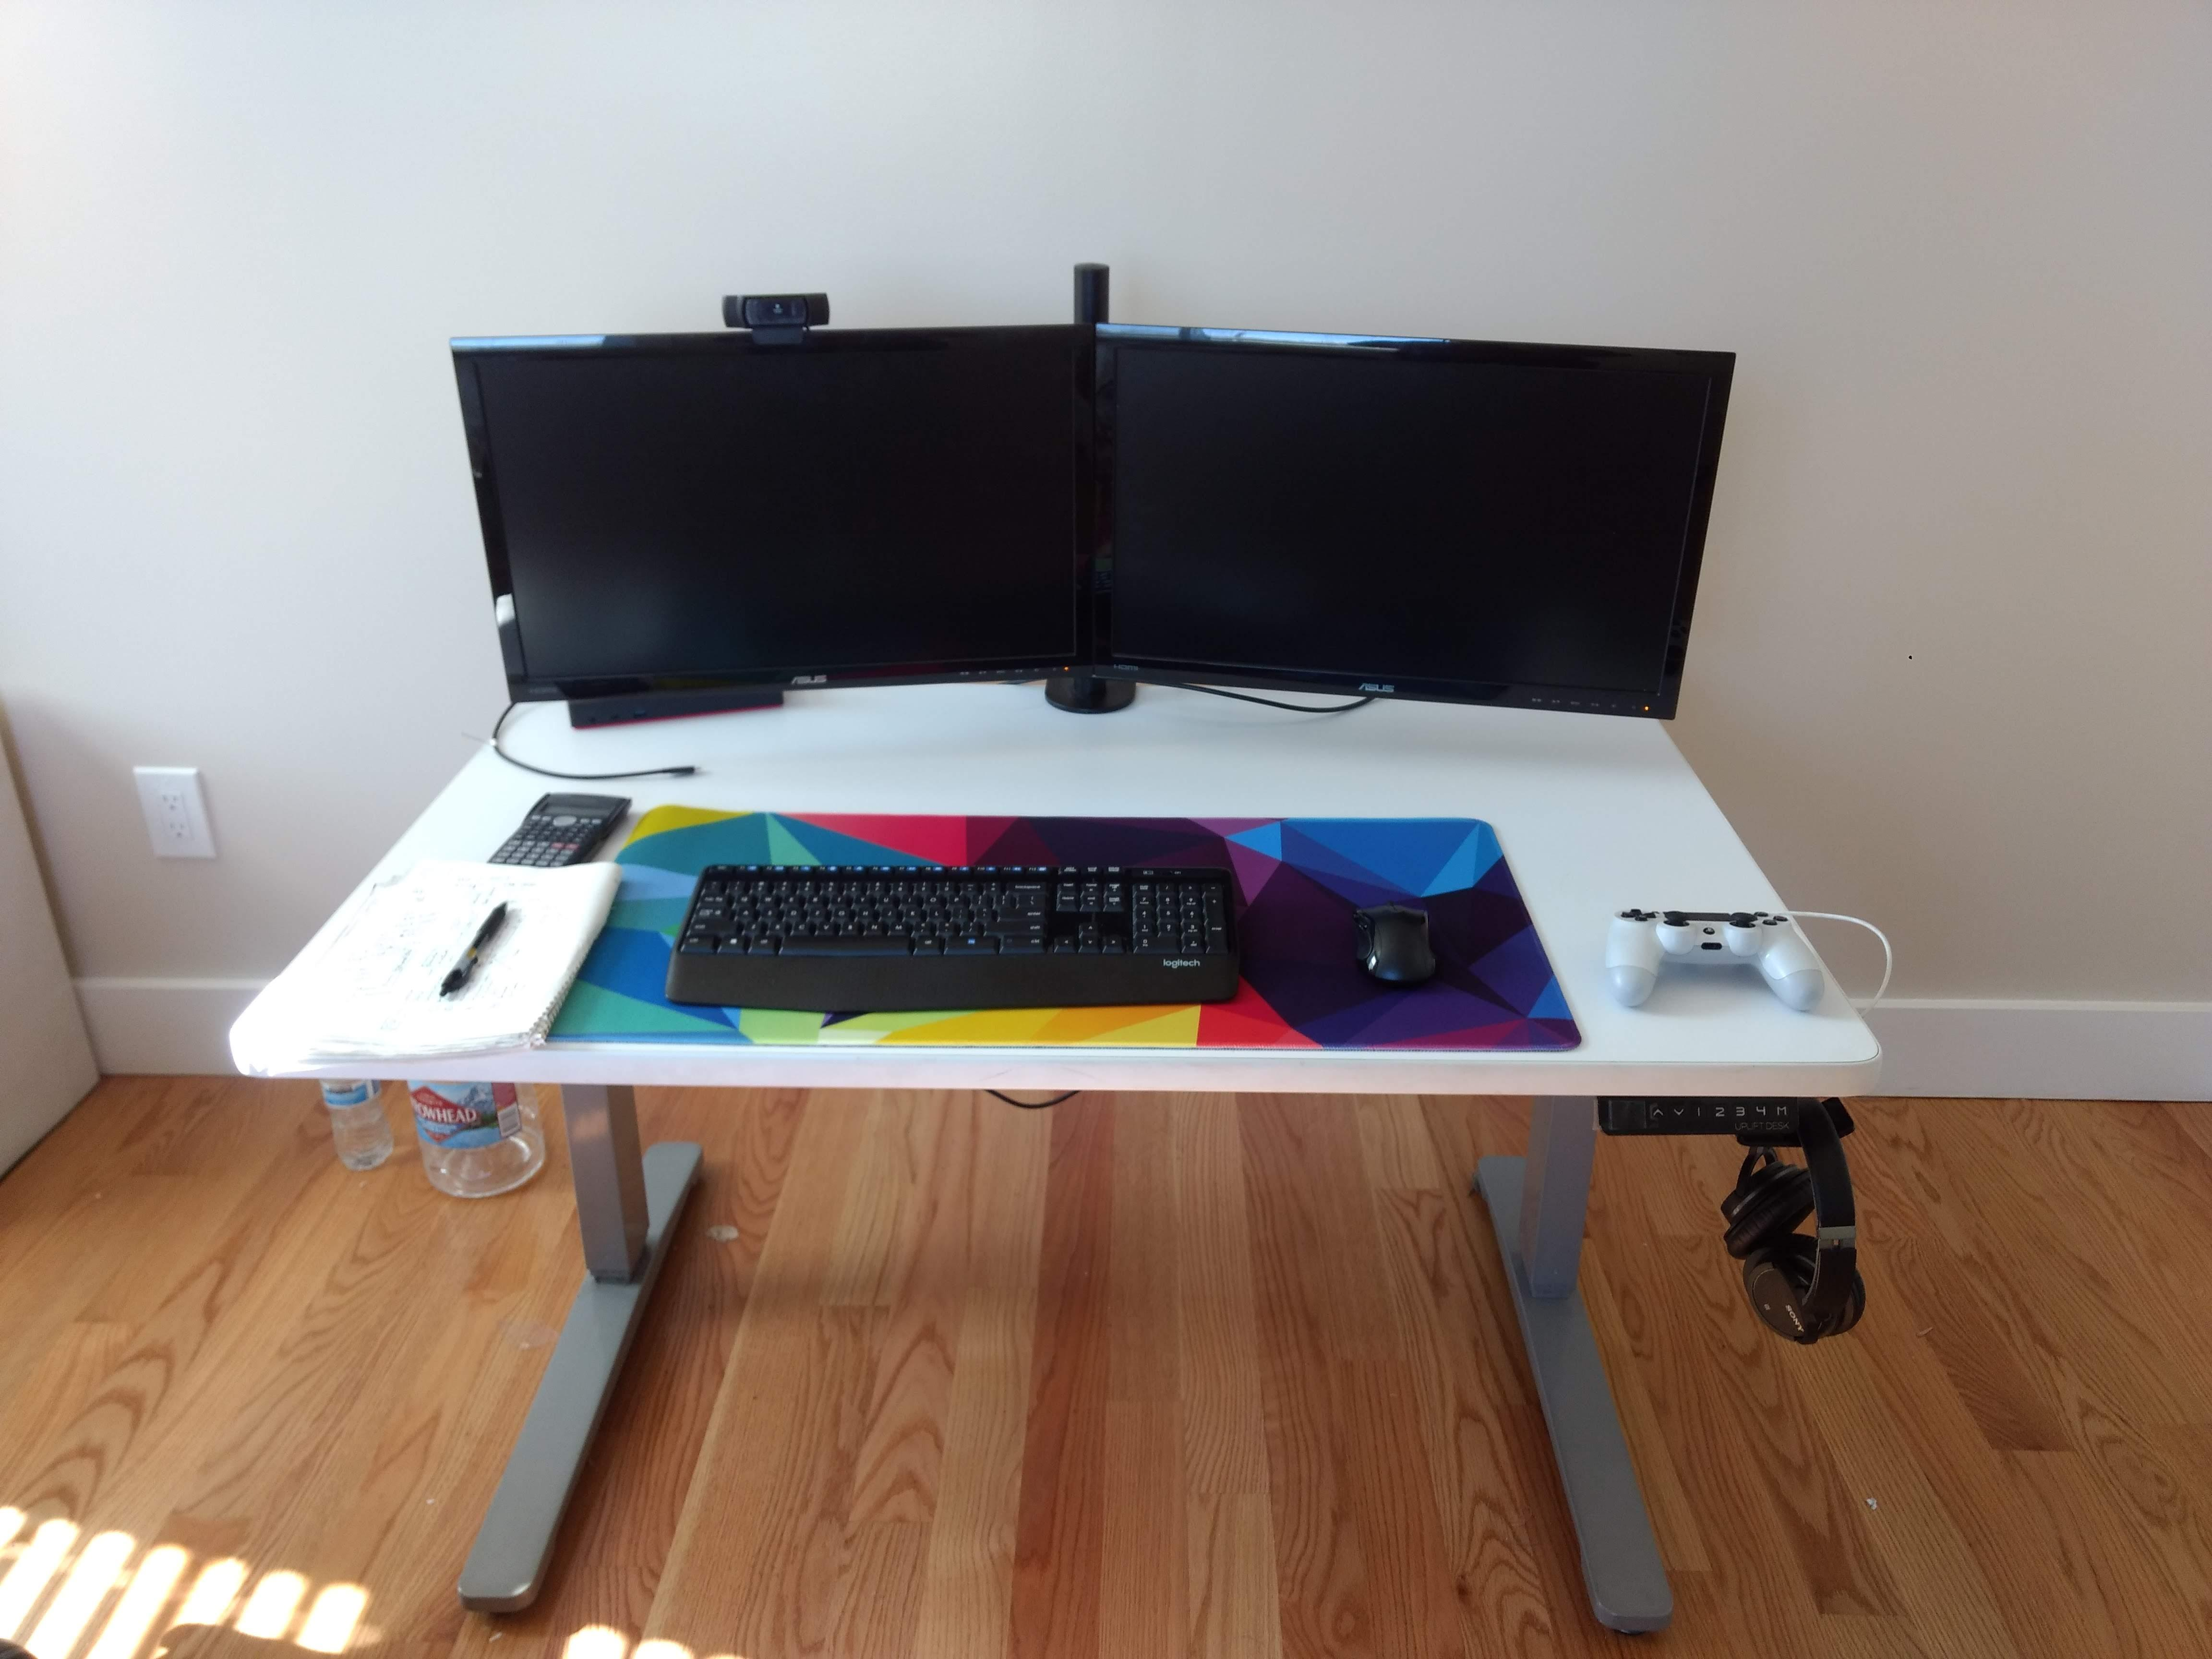Desk (Standing): (206, 687, 1905, 1636)
External Webcam: (697, 281, 852, 357)
Gaming Controller: (1581, 884, 1825, 1021)
Headphones: (1712, 1089, 1876, 1352)
Keyboard (Generic): (667, 847, 1249, 1016)
Monitor (Landscape): (1083, 310, 1743, 732), (442, 322, 1094, 709)
Mouse (Generic): (1341, 889, 1446, 1002)
Mousepad (Gaming): (563, 793, 1580, 1056)
Notebook: (289, 861, 624, 1065)
Scientific Calculator: (477, 782, 627, 887)
